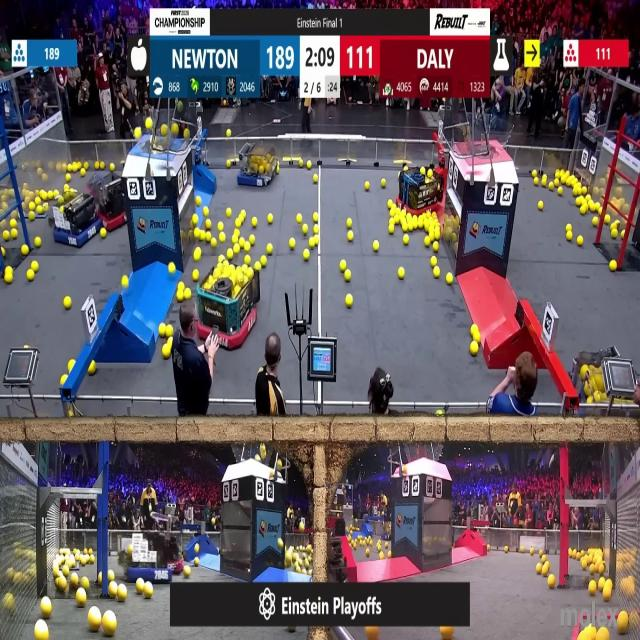ball_airborne: (172, 125, 180, 136), (135, 128, 142, 140), (162, 125, 168, 137), (183, 130, 190, 140), (146, 117, 152, 128), (255, 455, 259, 461)
ball_ground: (90, 609, 102, 633), (41, 597, 52, 619), (76, 589, 86, 606), (116, 586, 126, 602), (144, 583, 153, 600), (57, 576, 67, 589), (108, 584, 116, 600), (469, 342, 477, 357), (598, 628, 608, 640), (4, 270, 12, 285), (80, 575, 89, 588), (70, 572, 78, 586), (164, 345, 172, 359), (589, 582, 597, 596), (470, 324, 478, 338), (137, 580, 144, 595), (346, 294, 354, 307), (604, 588, 611, 602), (160, 324, 167, 337), (90, 361, 97, 374), (183, 565, 190, 577), (609, 261, 616, 273), (65, 296, 72, 308), (193, 248, 200, 260), (312, 236, 319, 248), (28, 271, 36, 281), (446, 274, 454, 284), (100, 229, 108, 239), (262, 256, 270, 266), (234, 231, 240, 244), (304, 249, 311, 260), (192, 270, 198, 282), (167, 324, 173, 336), (121, 276, 127, 288), (32, 262, 39, 272), (169, 264, 176, 274), (205, 232, 212, 242), (61, 376, 68, 386), (108, 570, 115, 580), (348, 232, 354, 243), (288, 239, 294, 250), (346, 271, 352, 282), (11, 230, 17, 241), (432, 268, 438, 279), (541, 564, 547, 575), (303, 223, 309, 234), (184, 288, 190, 299), (200, 231, 206, 242), (388, 224, 395, 233), (537, 201, 543, 211), (23, 245, 29, 255), (398, 268, 403, 280), (431, 255, 437, 265), (576, 236, 582, 246), (593, 216, 599, 226), (432, 242, 438, 252), (36, 238, 42, 248), (227, 248, 232, 260), (192, 230, 198, 240), (191, 214, 197, 224), (611, 230, 617, 240), (269, 214, 275, 224), (4, 231, 10, 241), (249, 235, 255, 245), (63, 566, 69, 576), (309, 238, 315, 248), (253, 264, 260, 272), (435, 410, 442, 418), (269, 244, 274, 255), (252, 216, 257, 227), (217, 221, 223, 230), (178, 291, 184, 300), (579, 206, 585, 215), (206, 219, 212, 228), (204, 207, 210, 216), (314, 224, 319, 234), (373, 238, 378, 248), (434, 231, 439, 241), (364, 181, 369, 191), (380, 552, 386, 560), (99, 572, 103, 584), (401, 222, 407, 230), (66, 174, 72, 182), (81, 556, 87, 564), (425, 238, 430, 247), (403, 236, 408, 245), (575, 197, 580, 206), (225, 208, 230, 217), (536, 564, 541, 573), (314, 212, 319, 221), (195, 197, 200, 206), (348, 217, 352, 228), (178, 282, 184, 289), (566, 223, 572, 230), (532, 171, 538, 178), (296, 213, 300, 223), (220, 234, 224, 244), (308, 162, 313, 170), (388, 201, 393, 209), (80, 169, 85, 177), (212, 240, 217, 248), (241, 210, 246, 218), (11, 220, 16, 228), (568, 230, 572, 240), (395, 216, 400, 224), (378, 541, 383, 549), (314, 175, 318, 184), (194, 543, 198, 552), (1, 248, 6, 255), (194, 558, 198, 566), (388, 552, 392, 560), (83, 163, 87, 171), (298, 162, 302, 169), (504, 545, 508, 552), (25, 345, 29, 351), (538, 180, 541, 187), (199, 199, 202, 205)
goal: (460, 117, 515, 158)
robot_blue: (120, 524, 174, 582), (49, 189, 99, 249), (242, 142, 279, 189)
robot_red: (195, 254, 262, 350), (398, 164, 444, 213), (93, 170, 126, 230)
